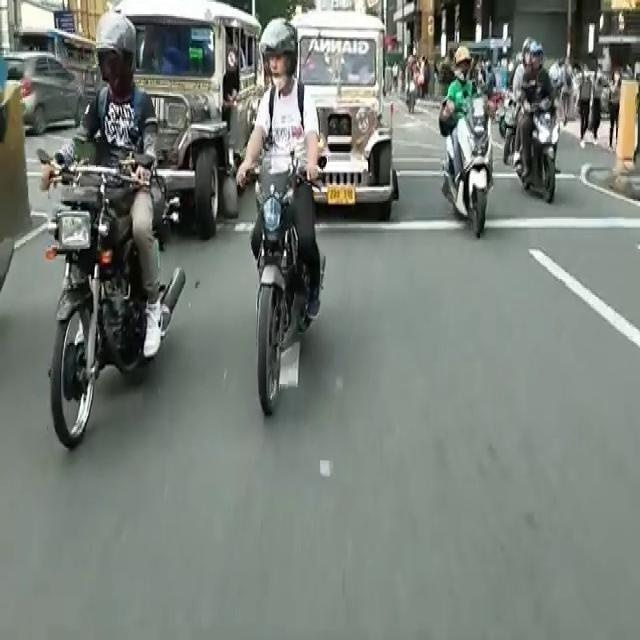jeepney: (126, 13, 254, 247), (291, 18, 394, 225)
motorcycle: (56, 50, 148, 417), (241, 34, 317, 403), (440, 45, 486, 247), (515, 51, 547, 212)
